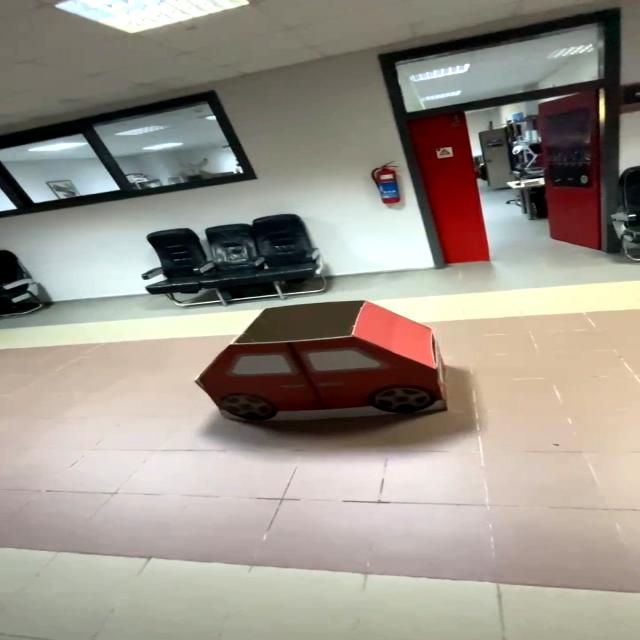red_car: (169, 291, 482, 434)
